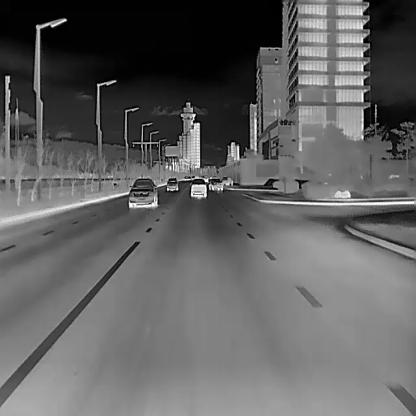car: (127, 177, 158, 208), (189, 178, 206, 198), (207, 176, 223, 190), (166, 176, 177, 190), (224, 176, 232, 184)
